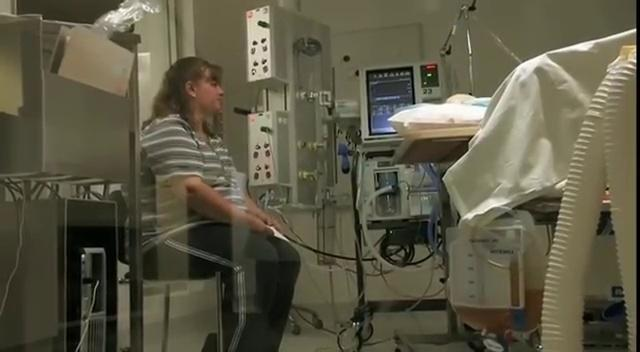others: (138, 55, 313, 352)
patient: (382, 91, 495, 145)
